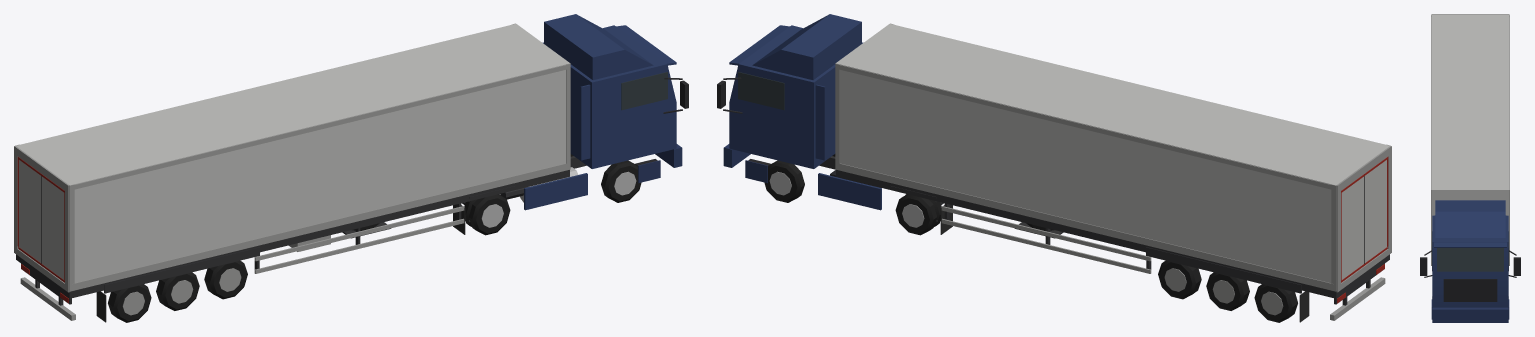
Rendered from SM_Prop_services_lorry_5_LOD1.glb.
3 views of the same model, side by side, from view 1: azimuth 30°, elevation 25°; view 2: azimuth 150°, elevation 25°; view 3: azimuth 270°, elevation 25° (orthographic). The views are drawn at different scales.
Visible parts, largest first — view 1: SM_Prop_services_lorry_5_LOD1; view 2: SM_Prop_services_lorry_5_LOD1; view 3: SM_Prop_services_lorry_5_LOD1.
Part boxes in pixels (x1=…): SM_Prop_services_lorry_5_LOD1: x1=14, y1=14, x2=688, y2=322; SM_Prop_services_lorry_5_LOD1: x1=717, y1=14, x2=1391, y2=322; SM_Prop_services_lorry_5_LOD1: x1=1420, y1=14, x2=1520, y2=322.
Size of the model in its own units: 16.69 by 3.97 by 3.3.
